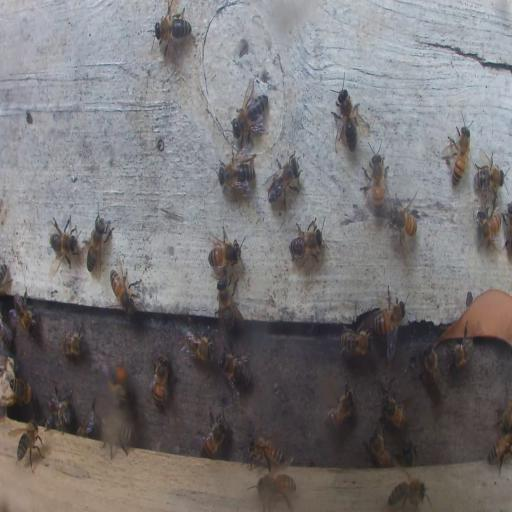bee: (231, 82, 269, 146), (152, 4, 192, 57), (333, 80, 361, 153), (266, 152, 302, 208), (85, 207, 112, 277), (48, 214, 81, 270), (385, 194, 419, 248), (363, 146, 387, 216), (208, 225, 243, 272), (289, 218, 324, 263), (14, 418, 43, 472), (324, 382, 355, 432), (450, 120, 472, 188), (374, 292, 405, 340), (217, 153, 255, 192), (109, 268, 139, 317), (388, 476, 430, 511), (473, 151, 505, 196), (216, 276, 242, 331), (182, 318, 214, 362), (104, 358, 130, 412), (246, 435, 285, 470), (198, 416, 227, 459), (43, 388, 72, 431), (366, 425, 394, 467), (423, 342, 445, 395), (260, 474, 296, 506), (219, 350, 250, 387), (13, 288, 37, 334), (487, 430, 512, 474), (380, 392, 408, 431), (150, 353, 169, 408), (476, 208, 503, 246), (339, 328, 373, 358), (448, 330, 473, 368), (62, 325, 85, 359), (498, 377, 511, 434), (77, 403, 98, 437), (7, 375, 31, 402), (0, 314, 13, 348), (402, 442, 416, 468), (0, 261, 10, 296)
